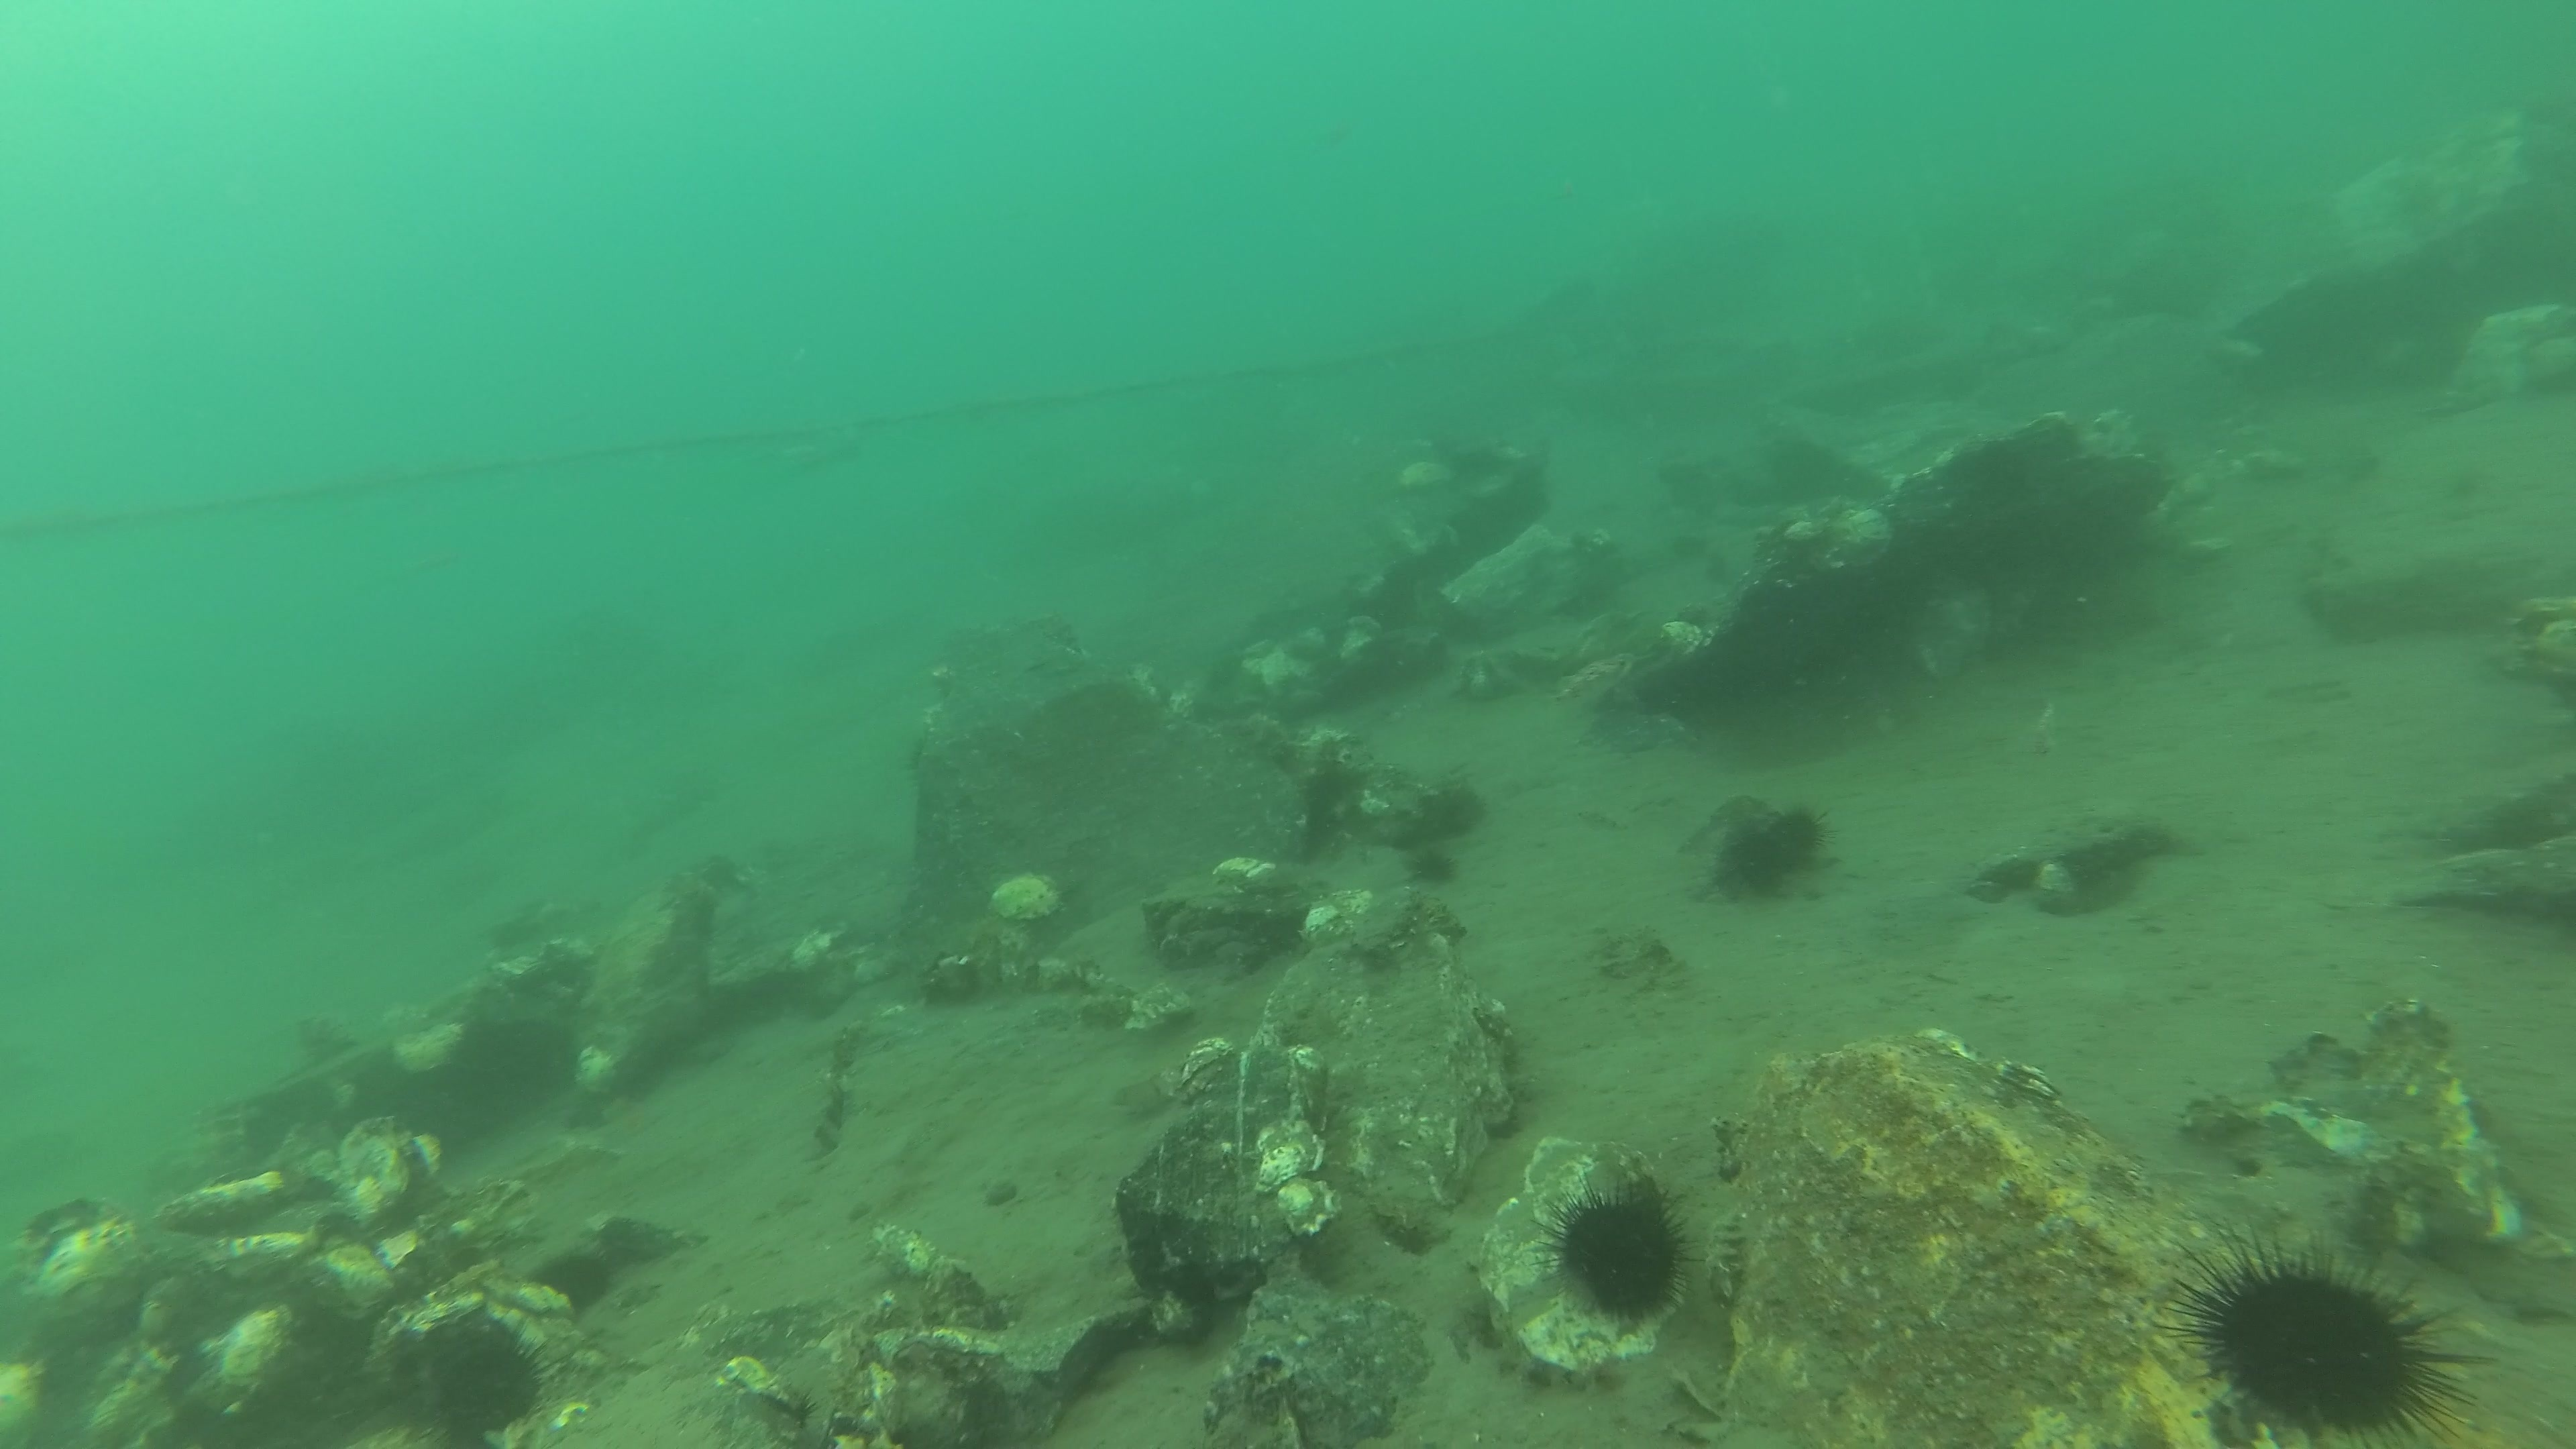echinus: (2151, 1208, 2502, 1449), (1527, 1168, 1709, 1323), (414, 1306, 571, 1449), (536, 1246, 614, 1307), (1971, 439, 2029, 510), (1730, 824, 1789, 893), (1776, 801, 1842, 860), (1410, 849, 1458, 885)
